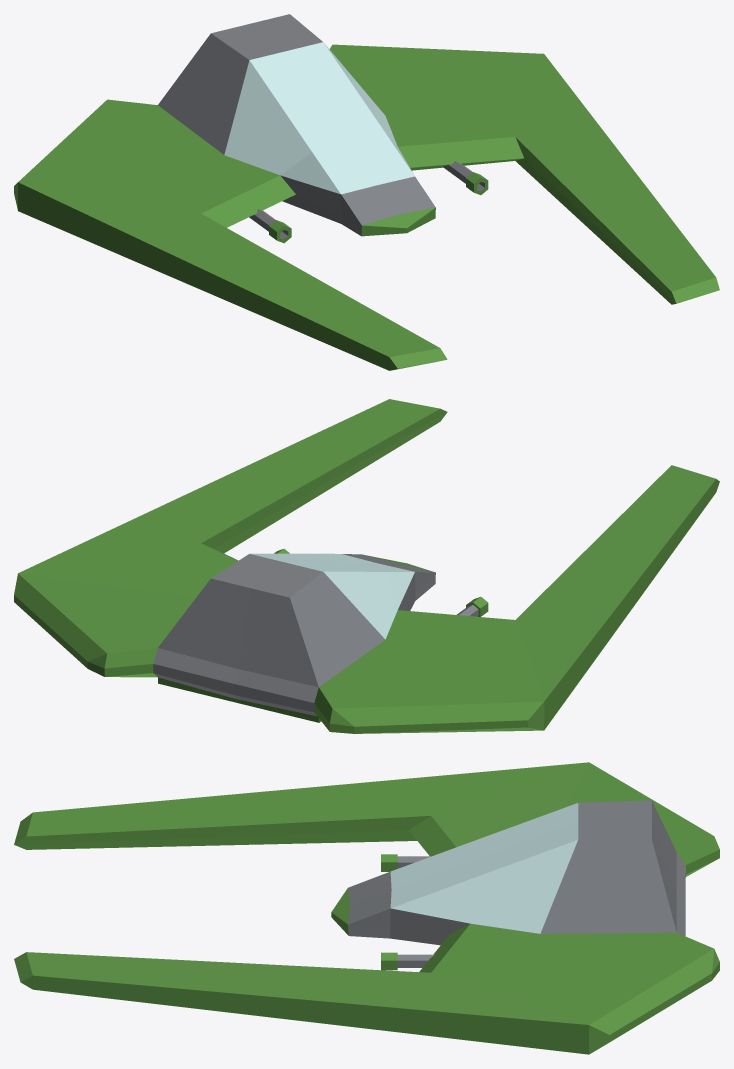
Rendered from drone_10_3.gltf.
The picture shows the model from 3 angles, top to bottom: view 1: azimuth 30°, elevation 25°; view 2: azimuth 150°, elevation 25°; view 3: azimuth 270°, elevation 25°; orthographic projection. The views are drawn at different scales.
Visible parts, largest first — view 1: 10.003; view 2: 10.003; view 3: 10.003.
Boxes of the visible parts, x1,y1,x2,y2 form: 10.003: (14,14,719,370); 10.003: (14,399,719,733); 10.003: (14,762,719,1054).
Bounding box in the file's own units: 5.92 × 1.15 × 6.72.
Materials: 1 (1 with a texture image).
